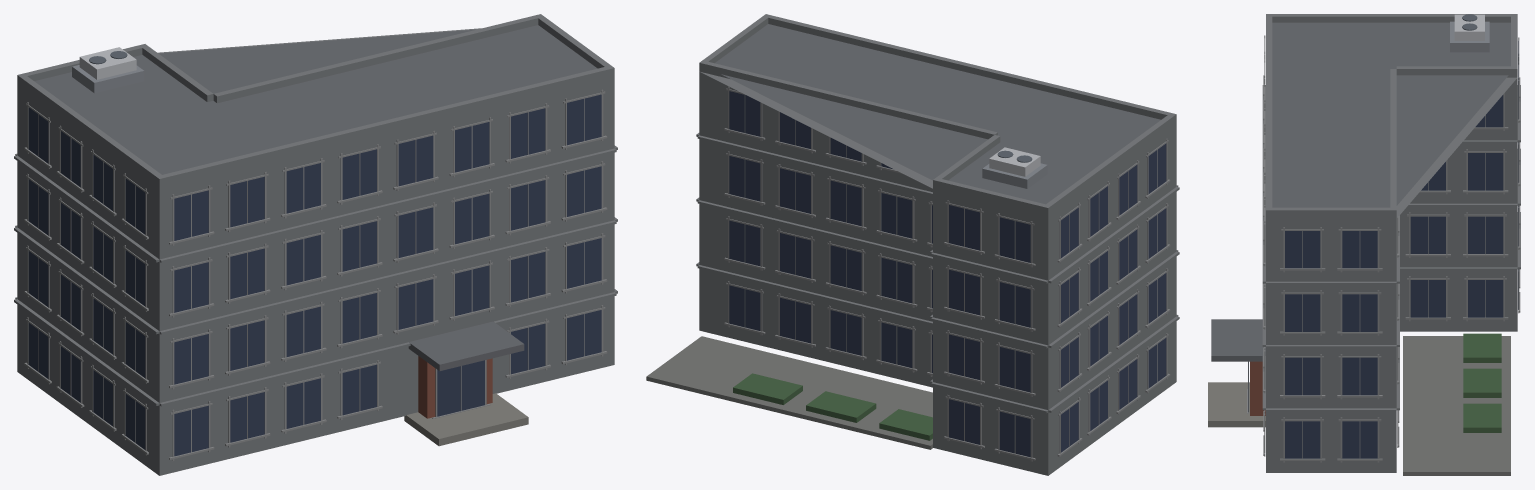
Rendered from civic_corner_08x02_lvl1.glb.
3 views of the same model, side by side, from view 1: azimuth 30°, elevation 25°; view 2: azimuth 150°, elevation 25°; view 3: azimuth 270°, elevation 25° (orthographic). The views are drawn at different scales.
Visible parts, largest first — view 1: civic_corner_08x02; view 2: civic_corner_08x02; view 3: civic_corner_08x02.
Boxes of the visible parts, x1,y1,x2,y2 form: civic_corner_08x02: [14, 14, 617, 475]; civic_corner_08x02: [646, 14, 1179, 475]; civic_corner_08x02: [1208, 14, 1520, 475].
Bounding box in the file's own units: 1 × 0.6735 × 0.6634.
